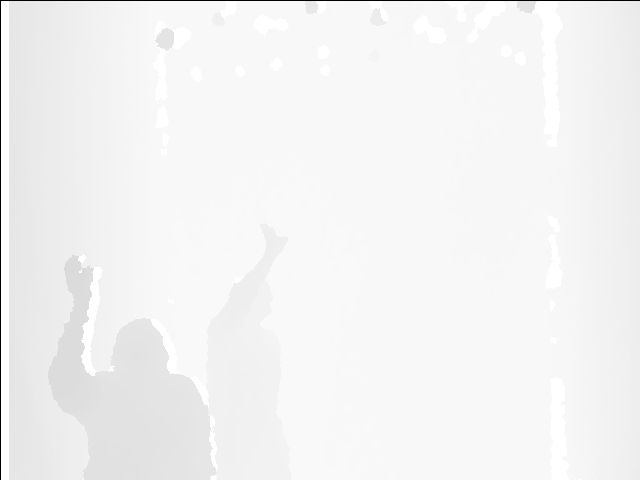hand: (60, 250, 104, 304), (256, 217, 291, 264)
